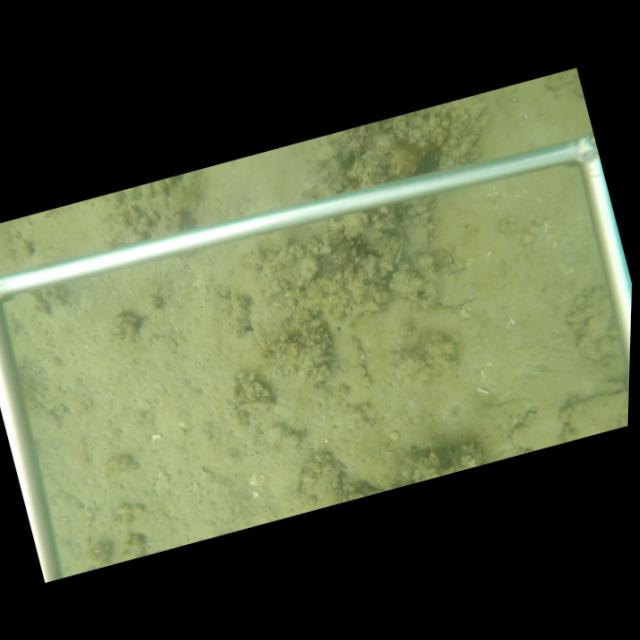Oyster-Closed: (233, 398, 277, 415), (408, 450, 422, 468)
Oyster-Indeterminate: (561, 387, 629, 435), (505, 401, 568, 449), (402, 223, 431, 262)
